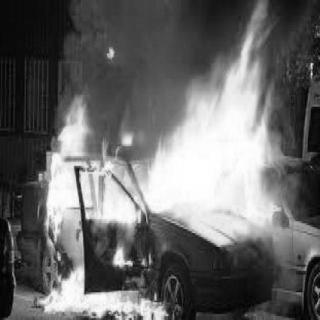Fire: (38, 3, 280, 316)
